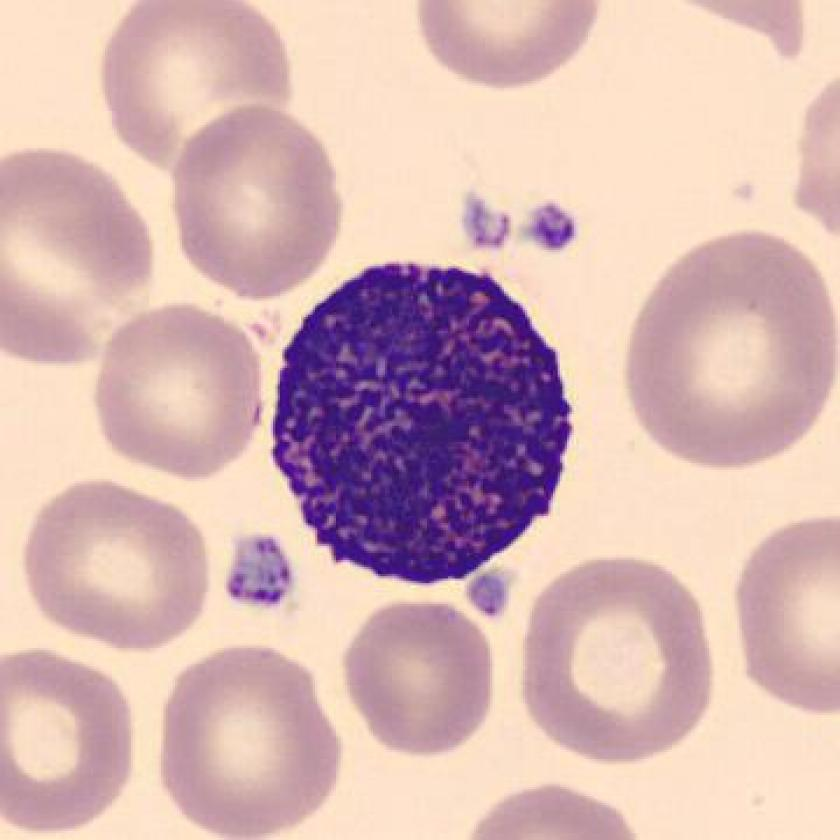basophil: (258, 253, 582, 596)
